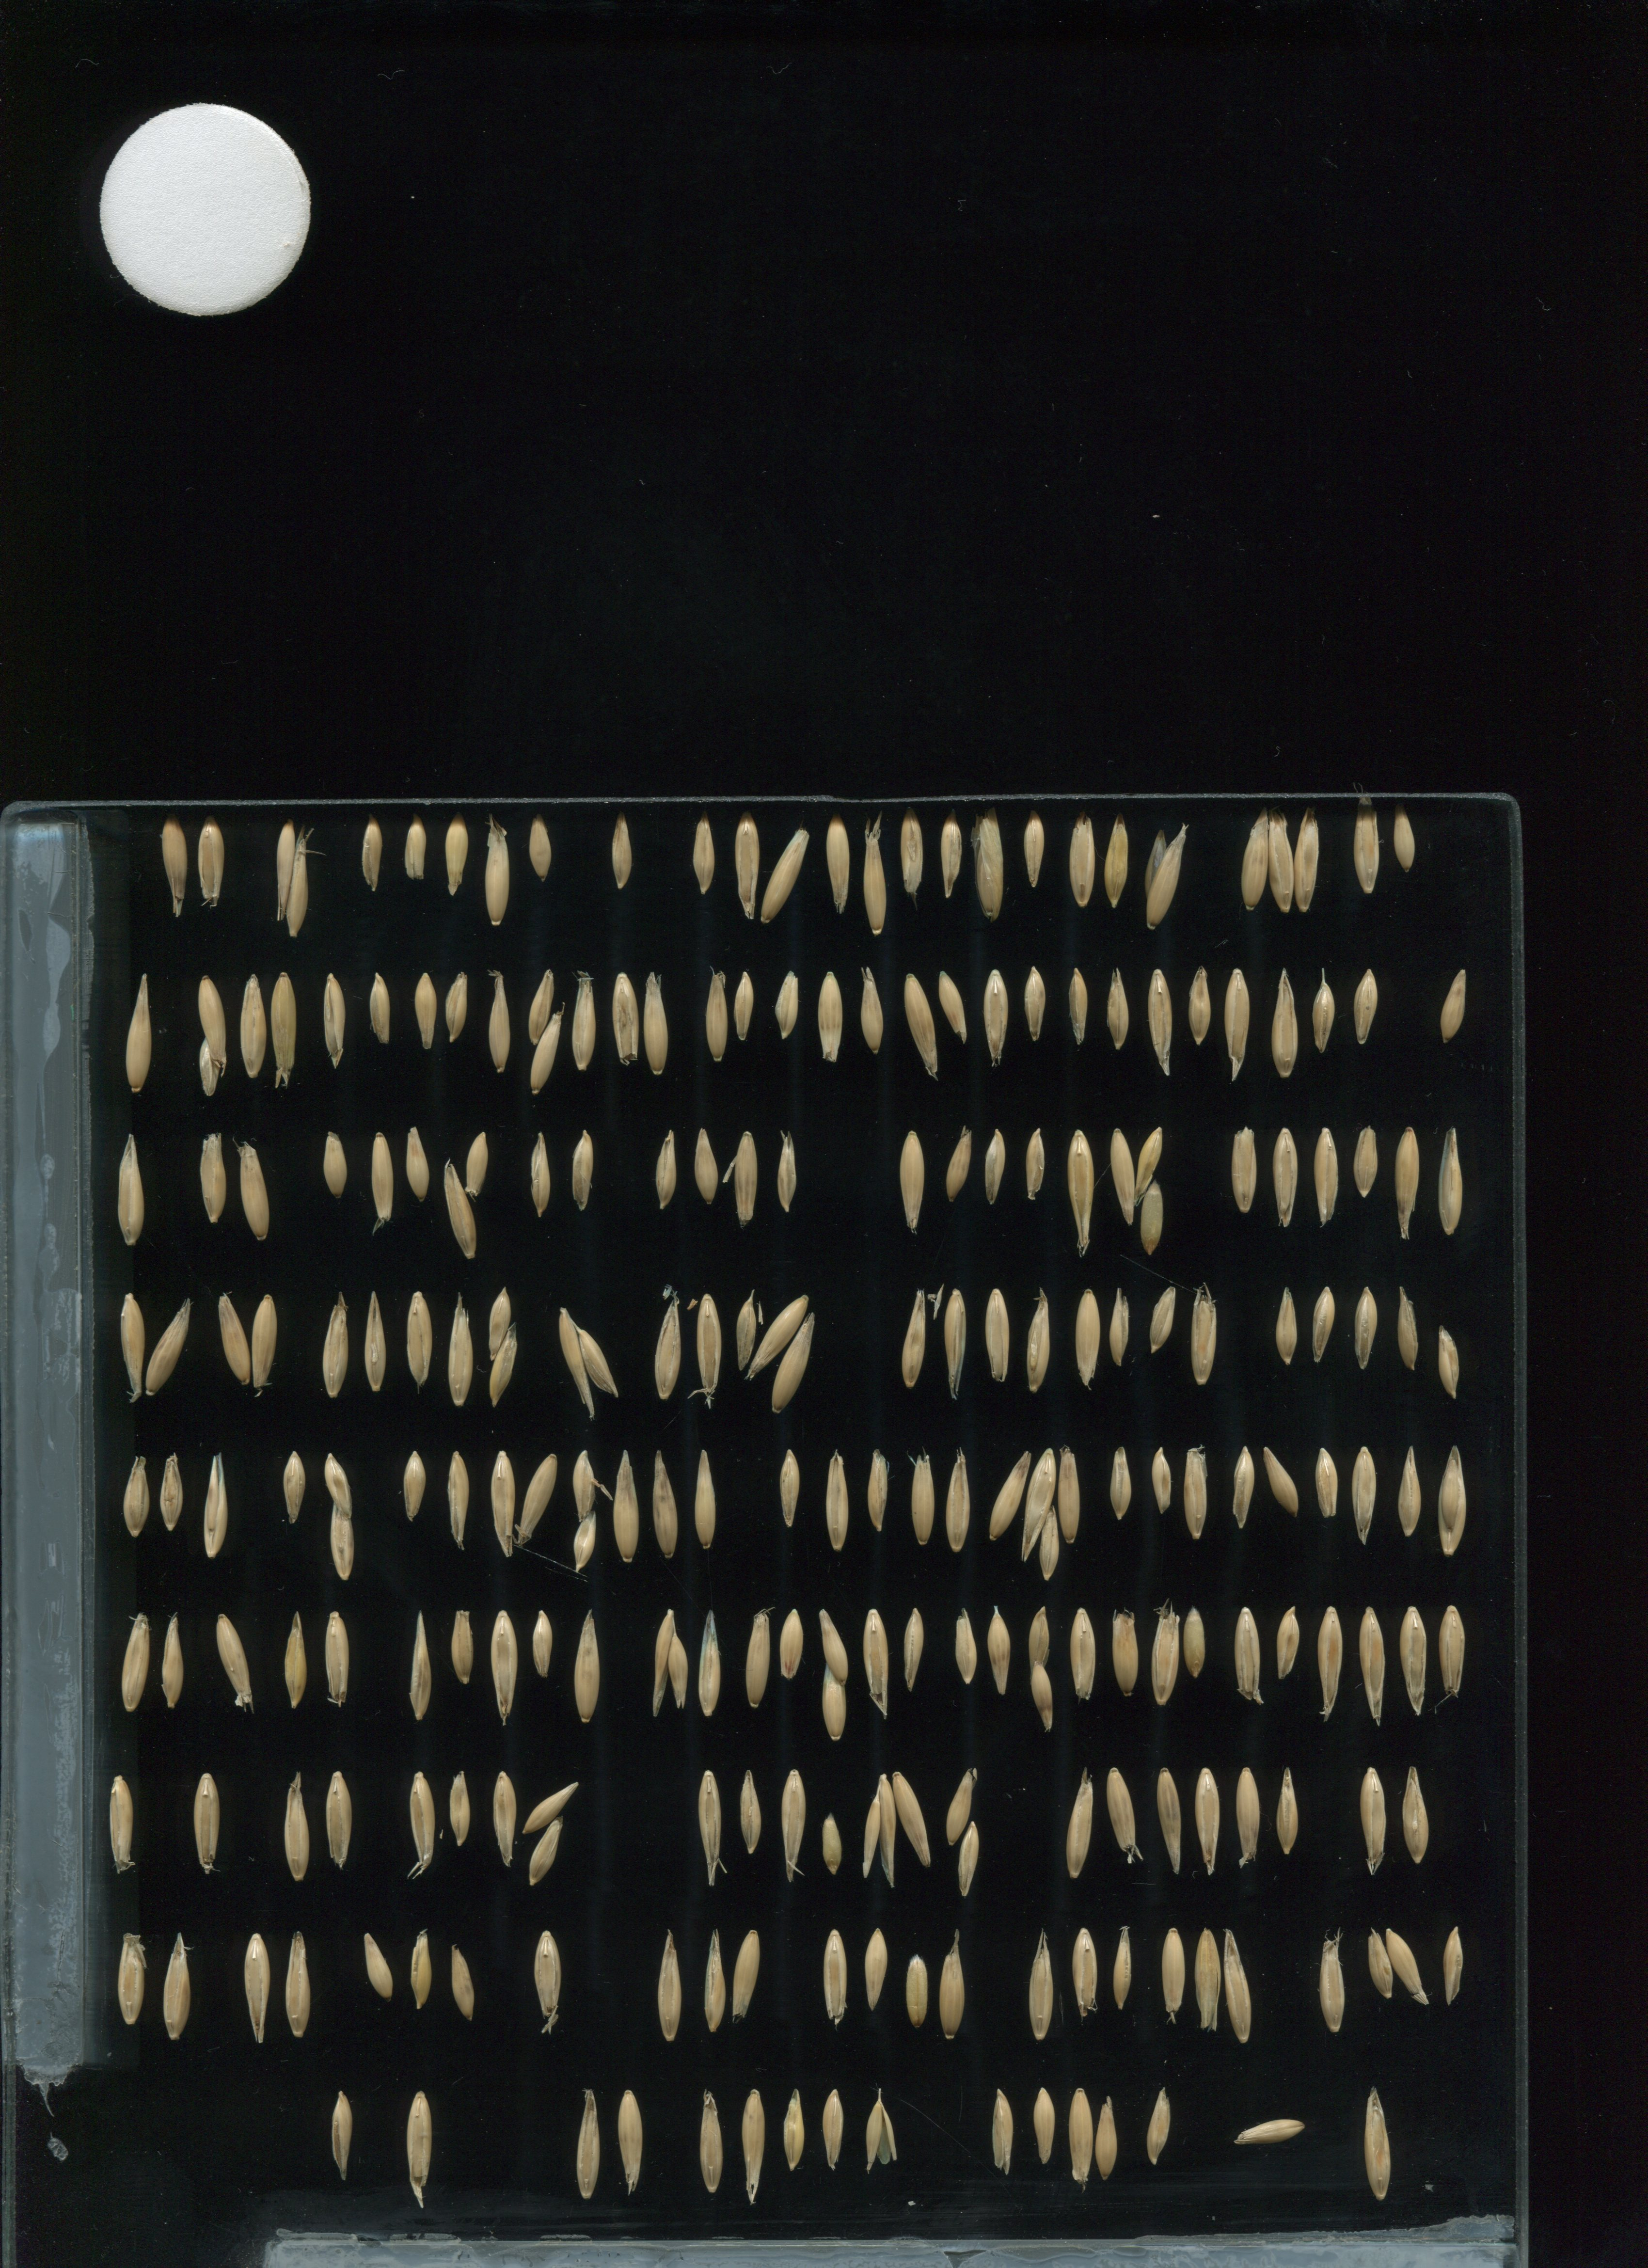NakedGrain: (690, 810, 720, 896), (356, 817, 387, 896), (1181, 1606, 1213, 1683), (320, 1127, 352, 1203), (1363, 1928, 1394, 2002), (525, 808, 555, 886), (1431, 1326, 1461, 1402), (1141, 1174, 1167, 1257), (607, 808, 634, 891), (1109, 1440, 1136, 1523), (444, 968, 472, 1044), (817, 1814, 850, 1877), (905, 1953, 931, 2030), (401, 814, 430, 884), (449, 1766, 472, 1851), (1150, 1444, 1176, 1516), (1391, 808, 1419, 873)
WholeGrain: (741, 1289, 810, 1382), (757, 826, 812, 926), (141, 1292, 194, 1395), (771, 1307, 819, 1416), (889, 1764, 935, 1874), (873, 1768, 912, 1896), (213, 1608, 257, 1719), (1016, 1442, 1056, 1562), (639, 1604, 681, 1717), (986, 1446, 1034, 1544), (516, 1449, 562, 1551), (900, 967, 942, 1074), (1143, 822, 1185, 928), (1386, 1919, 1433, 2013), (1357, 1602, 1393, 1727), (440, 1159, 482, 1263), (558, 1303, 595, 1421), (773, 1766, 808, 1886), (690, 1770, 725, 1889), (322, 1761, 357, 1881), (280, 1768, 315, 1888), (190, 1759, 225, 1879), (104, 1763, 139, 1882), (197, 1447, 234, 1560), (1102, 1759, 1141, 1863), (648, 1449, 683, 1562), (609, 1451, 644, 1564), (440, 1442, 475, 1555), (1391, 1123, 1423, 1247), (1435, 1120, 1467, 1243), (576, 1324, 625, 1403), (820, 1444, 856, 1555), (905, 1442, 940, 1553), (486, 1446, 521, 1557), (1062, 1766, 1095, 1881), (217, 1285, 252, 1393), (114, 1130, 146, 1248), (118, 1284, 150, 1402), (319, 1282, 350, 1400), (444, 1292, 475, 1410), (653, 1285, 685, 1403), (692, 1289, 724, 1407), (982, 1284, 1014, 1402), (1019, 1285, 1051, 1403), (1072, 1282, 1104, 1400), (942, 1444, 974, 1562), (1178, 1437, 1210, 1555), (1437, 1440, 1468, 1558), (120, 1601, 151, 1719), (405, 1606, 437, 1724), (694, 1602, 725, 1720), (741, 1599, 773, 1717), (1067, 1599, 1099, 1717), (1150, 1595, 1181, 1713), (1231, 1595, 1262, 1713), (1400, 1604, 1431, 1722), (1357, 1759, 1389, 1877), (1192, 1759, 1224, 1877), (1151, 1759, 1183, 1877), (1220, 1926, 1252, 2044), (1190, 1925, 1222, 2043), (1025, 1923, 1056, 2041), (1069, 1918, 1100, 2036), (935, 1926, 967, 2044), (819, 1921, 850, 2039), (697, 1923, 729, 2041), (653, 1925, 685, 2043), (530, 1921, 562, 2039), (283, 1923, 315, 2041), (241, 1928, 273, 2046), (405, 2085, 437, 2203), (614, 2085, 646, 2203), (153, 1602, 185, 1719), (861, 1604, 893, 1720), (942, 1761, 982, 1851), (1055, 1440, 1088, 1548), (248, 1285, 278, 1403), (361, 1282, 391, 1400), (401, 1280, 431, 1398), (900, 1287, 930, 1405), (1190, 1273, 1220, 1391), (278, 1601, 308, 1719), (489, 1608, 519, 1726), (572, 1609, 602, 1727), (1109, 1599, 1139, 1717), (1315, 1601, 1345, 1719), (1438, 1590, 1468, 1708), (1400, 1754, 1430, 1872), (1234, 1757, 1264, 1875), (1159, 1921, 1188, 2039), (731, 1921, 761, 2039), (116, 1923, 146, 2041), (326, 2073, 356, 2191), (572, 2085, 602, 2203), (697, 2083, 727, 2201), (738, 2088, 768, 2206), (1361, 2085, 1391, 2203), (938, 1287, 968, 1403), (322, 1602, 352, 1719), (1273, 1757, 1303, 1874), (408, 1766, 438, 1882), (162, 1930, 192, 2046), (197, 972, 232, 1071), (357, 1921, 398, 2006), (319, 970, 352, 1072), (525, 1814, 569, 1891), (158, 815, 190, 923), (438, 803, 470, 910), (481, 821, 512, 928), (731, 810, 762, 917), (820, 810, 852, 917), (857, 829, 889, 937), (896, 805, 928, 912), (972, 810, 1004, 917), (1067, 808, 1099, 916), (1352, 789, 1384, 896), (1224, 970, 1255, 1078), (1146, 967, 1178, 1074), (817, 961, 849, 1069), (194, 1125, 225, 1233), (368, 1125, 400, 1233), (896, 1130, 928, 1238), (1229, 1122, 1261, 1229), (1269, 1123, 1301, 1231), (1310, 1123, 1342, 1231), (1391, 1277, 1423, 1384), (1306, 1271, 1338, 1379), (1271, 1271, 1303, 1379), (1148, 1271, 1180, 1379), (1394, 1440, 1426, 1548), (1349, 1439, 1380, 1546), (521, 1780, 583, 1835), (194, 810, 225, 916), (1100, 808, 1132, 914), (1240, 808, 1271, 914), (1264, 810, 1296, 916), (1291, 808, 1322, 914), (1269, 972, 1301, 1078), (981, 965, 1012, 1071), (857, 956, 889, 1062), (703, 961, 734, 1067), (637, 967, 669, 1072), (609, 965, 641, 1071), (569, 967, 600, 1072), (484, 970, 516, 1076), (238, 972, 269, 1078), (239, 1138, 271, 1243), (727, 1127, 759, 1233), (1067, 1127, 1093, 1254), (1350, 1275, 1382, 1381), (1106, 1275, 1137, 1381), (488, 1768, 519, 1874), (127, 972, 153, 1097), (1317, 1928, 1347, 2037), (937, 803, 967, 910), (269, 970, 299, 1078), (692, 1446, 722, 1551), (1132, 1118, 1167, 1206), (400, 1439, 433, 1530), (775, 1444, 808, 1535), (861, 1442, 894, 1534), (984, 1602, 1018, 1694), (775, 2085, 808, 2176), (486, 1322, 521, 1409), (1067, 2081, 1095, 2189), (1231, 2113, 1308, 2152), (1261, 1444, 1301, 1518), (1109, 1123, 1137, 1227), (121, 1449, 153, 1541), (158, 1449, 190, 1541), (280, 1440, 312, 1532), (898, 1604, 930, 1696), (951, 1604, 982, 1696), (1273, 1594, 1305, 1685), (780, 1599, 812, 1690), (526, 1602, 558, 1694), (449, 1604, 481, 1696), (732, 1766, 764, 1858), (1107, 1923, 1139, 2014), (1141, 2080, 1173, 2171), (1093, 2094, 1125, 2185), (1030, 2083, 1062, 2175), (988, 2087, 1019, 2178), (864, 2085, 896, 2176), (819, 2085, 850, 2176), (447, 1935, 479, 2027), (407, 1926, 438, 2018), (819, 1606, 854, 1687), (861, 1918, 889, 2016), (650, 1125, 681, 1211), (1062, 963, 1093, 1048), (773, 961, 805, 1046), (463, 1123, 495, 1208), (1021, 1122, 1053, 1206), (322, 1447, 357, 1523), (664, 1631, 694, 1719), (1231, 1440, 1259, 1534), (951, 1819, 982, 1902), (1438, 965, 1468, 1051), (1350, 961, 1380, 1048), (410, 967, 440, 1053), (773, 1129, 803, 1215), (945, 1123, 975, 1210), (820, 1657, 850, 1743), (1030, 1659, 1062, 1740), (1018, 806, 1048, 891), (1310, 970, 1340, 1055), (1183, 963, 1213, 1048), (1100, 968, 1130, 1053), (1018, 960, 1048, 1044), (938, 961, 968, 1046), (731, 965, 761, 1049), (526, 963, 556, 1048), (366, 967, 396, 1051), (692, 1125, 722, 1210), (569, 1127, 599, 1211), (528, 1132, 558, 1217), (401, 1123, 431, 1208), (1350, 1122, 1380, 1206), (981, 1125, 1011, 1210), (1310, 1442, 1342, 1521), (329, 1495, 357, 1583), (1438, 1923, 1467, 2011), (275, 815, 298, 923), (287, 831, 310, 939), (570, 1498, 600, 1579), (856, 1789, 880, 1881), (486, 1285, 512, 1363), (572, 1442, 597, 1525), (194, 1034, 224, 1101), (1026, 1601, 1053, 1676), (1039, 1507, 1062, 1587), (736, 1287, 755, 1373)
